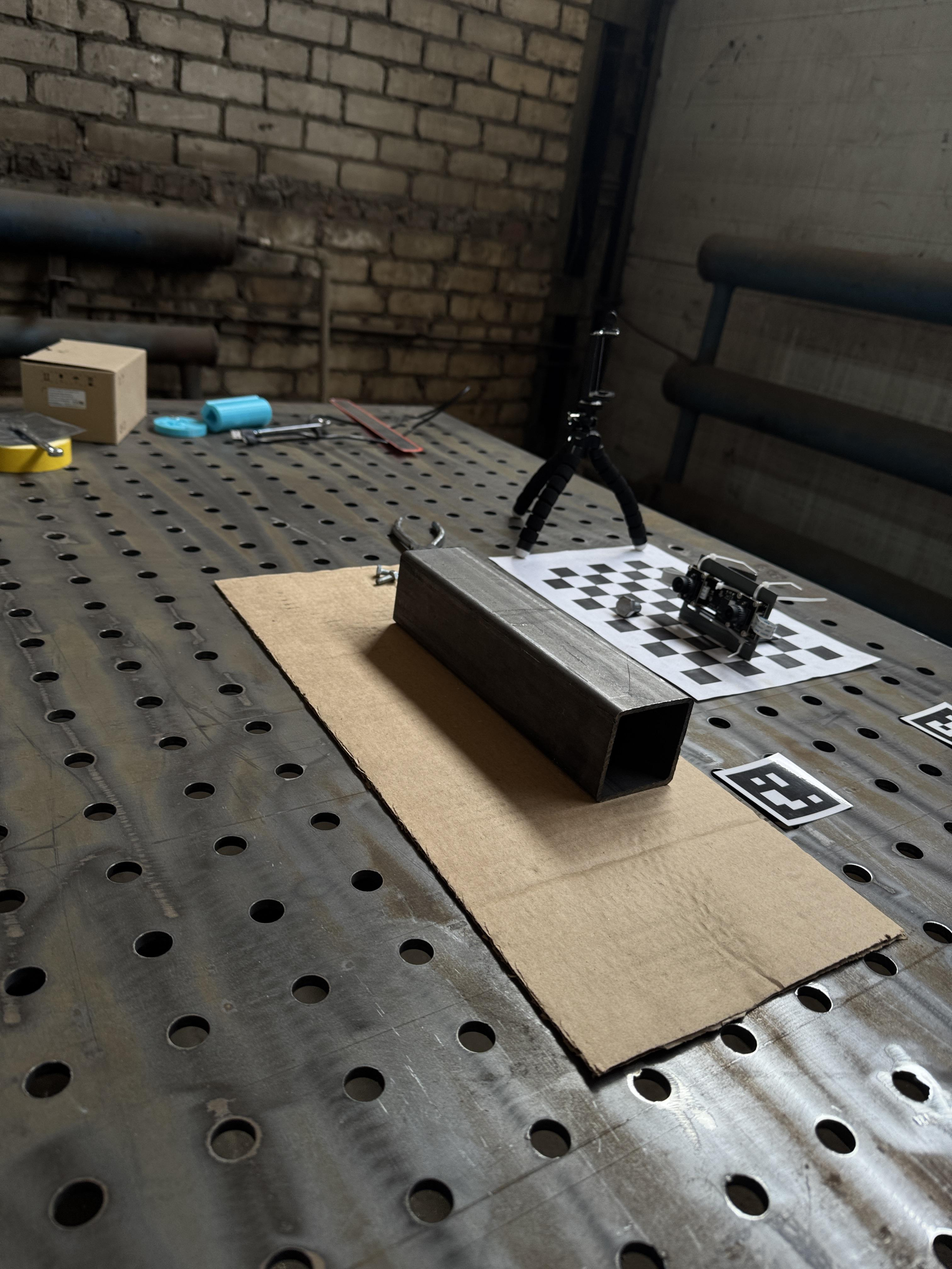detail: (393, 546, 694, 803)
